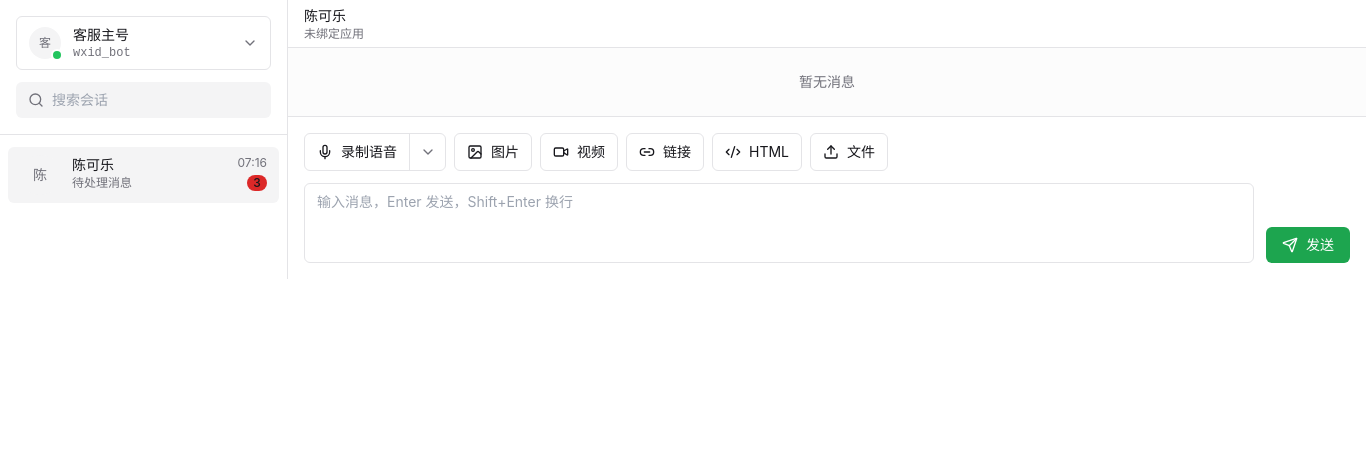
Scenario: WorkbenchPage conversation list › 隐藏会话乐观状态在服务端刷新后清理，允许新消息重新显示
Right-click the button with aria-label "打开会话 陈可乐" at coordinates (40, 175), box top-left (8, 147), bottom-right (279, 203)
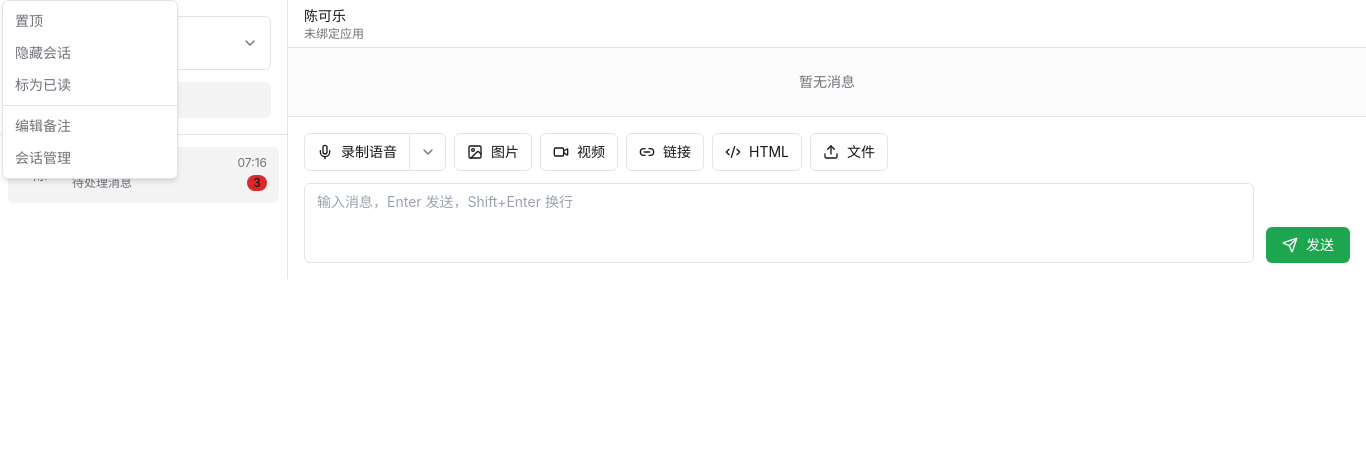
Click the menu item "隐藏会话". click: coordinates (43, 52)
box: top-left (15, 44), bottom-right (71, 61)
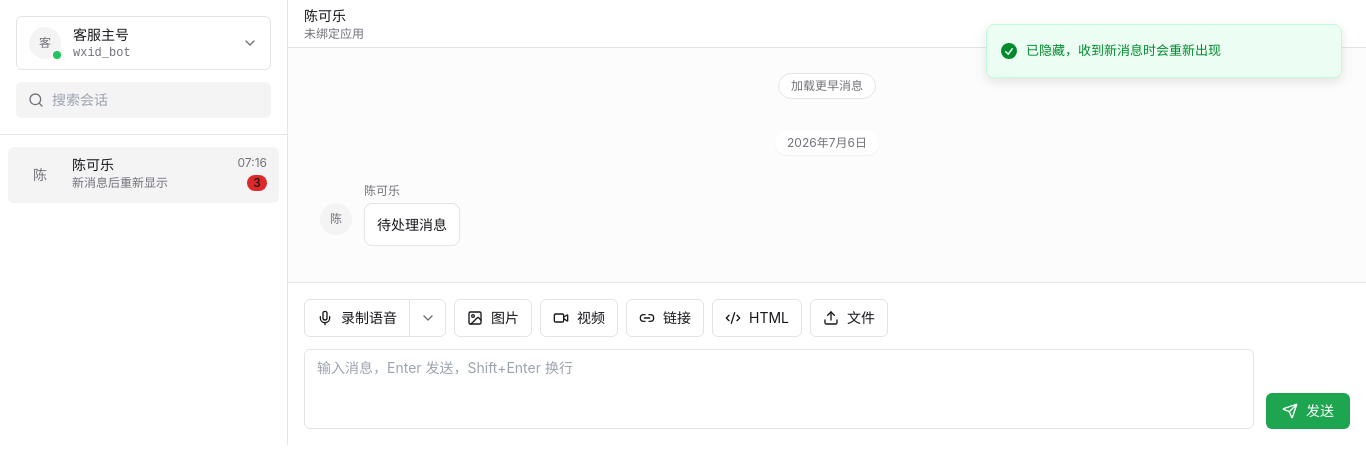
Result: the text "新消息后重新显示" is shown at top-left (72, 175), bottom-right (168, 190)
